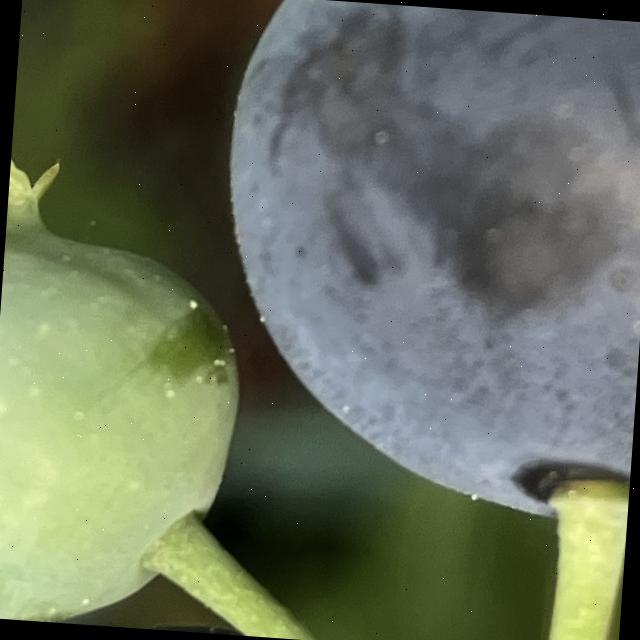Blueberries: (204, 0, 640, 524), (0, 114, 262, 634)
